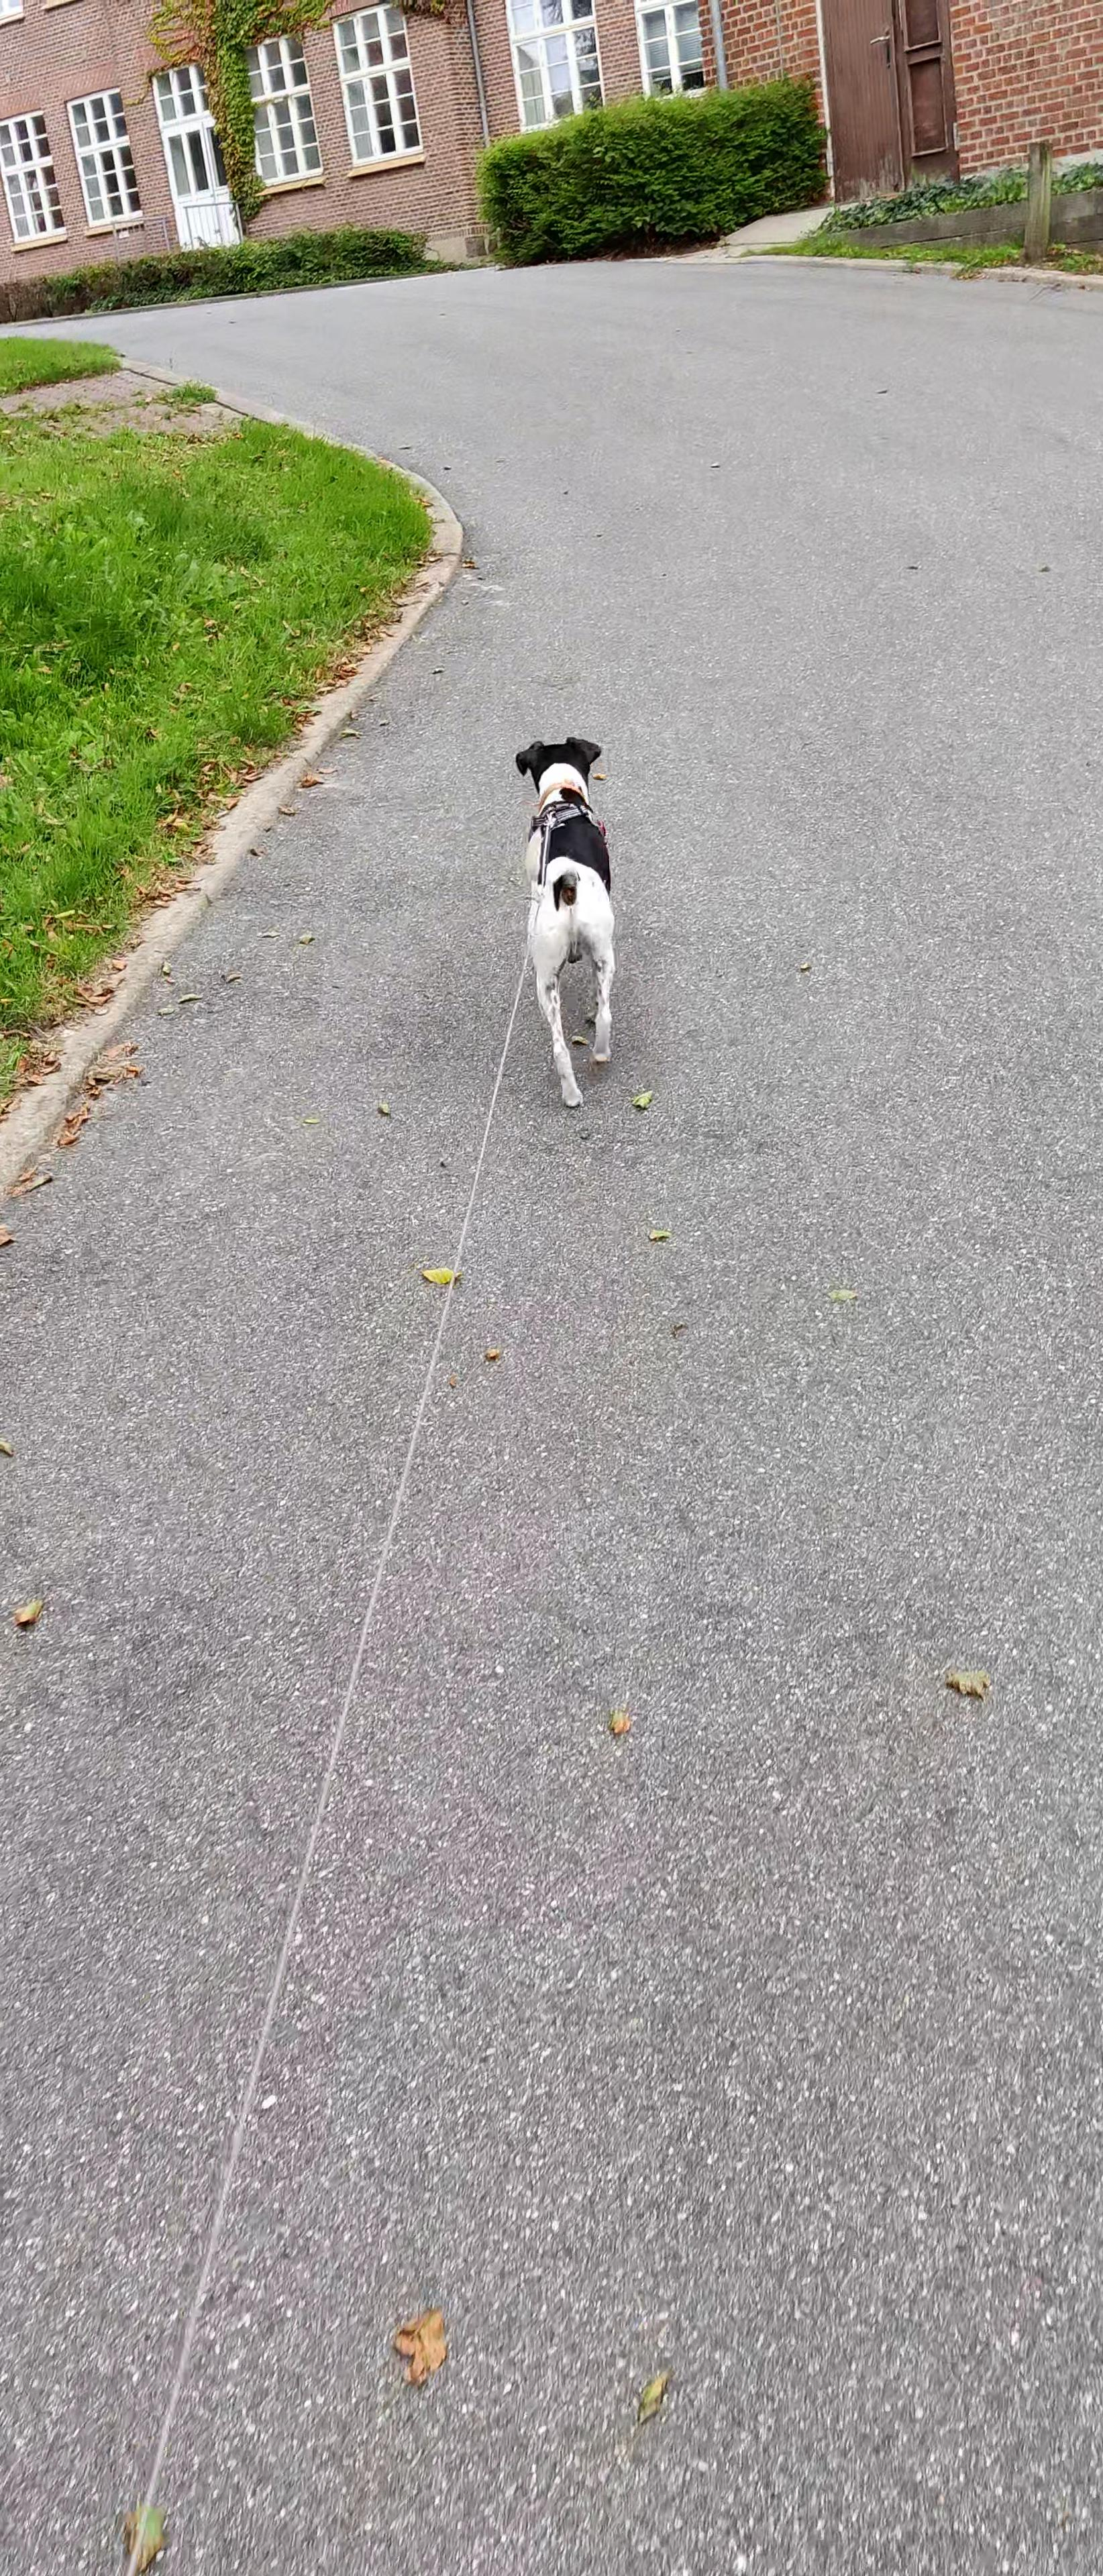Dog: (503, 729, 633, 1112)
